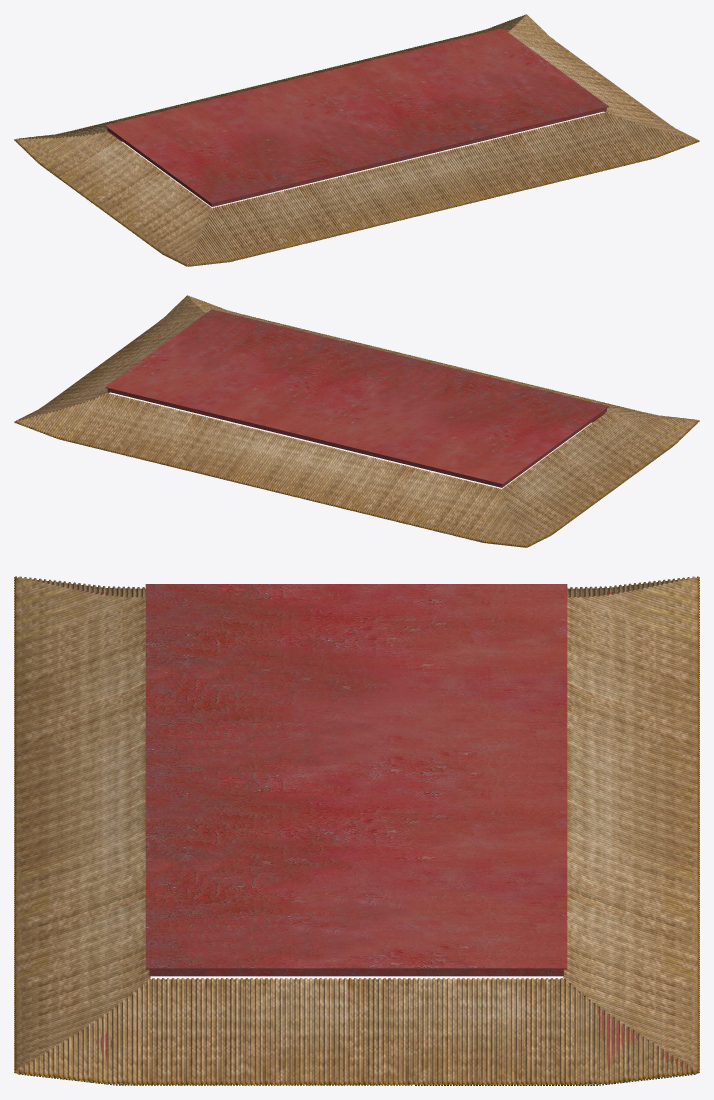
The model's file is 下屋顶.obj.
3 renders of one model, top to bottom at view 1: azimuth 30°, elevation 25°; view 2: azimuth 150°, elevation 25°; view 3: azimuth 270°, elevation 25°, orthographic. The views are drawn at different scales.
Parts seen in each view (by area): view 1: Obj3d66_17342430_29_320, Obj3d66_17342430_33_561; view 2: Obj3d66_17342430_29_320, Obj3d66_17342430_33_561; view 3: Obj3d66_17342430_29_320, Obj3d66_17342430_33_561.
Part boxes in pixels (box(x1,y1,x2,y2)): Obj3d66_17342430_29_320: box(14, 14, 699, 266); Obj3d66_17342430_33_561: box(55, 28, 608, 233); Obj3d66_17342430_29_320: box(14, 295, 699, 547); Obj3d66_17342430_33_561: box(29, 309, 658, 487); Obj3d66_17342430_29_320: box(14, 576, 699, 1085); Obj3d66_17342430_33_561: box(52, 584, 695, 1081).
Bounding box in the file's own units: 2660 × 193 × 1555.
Materials: 5 (5 with a texture image).
